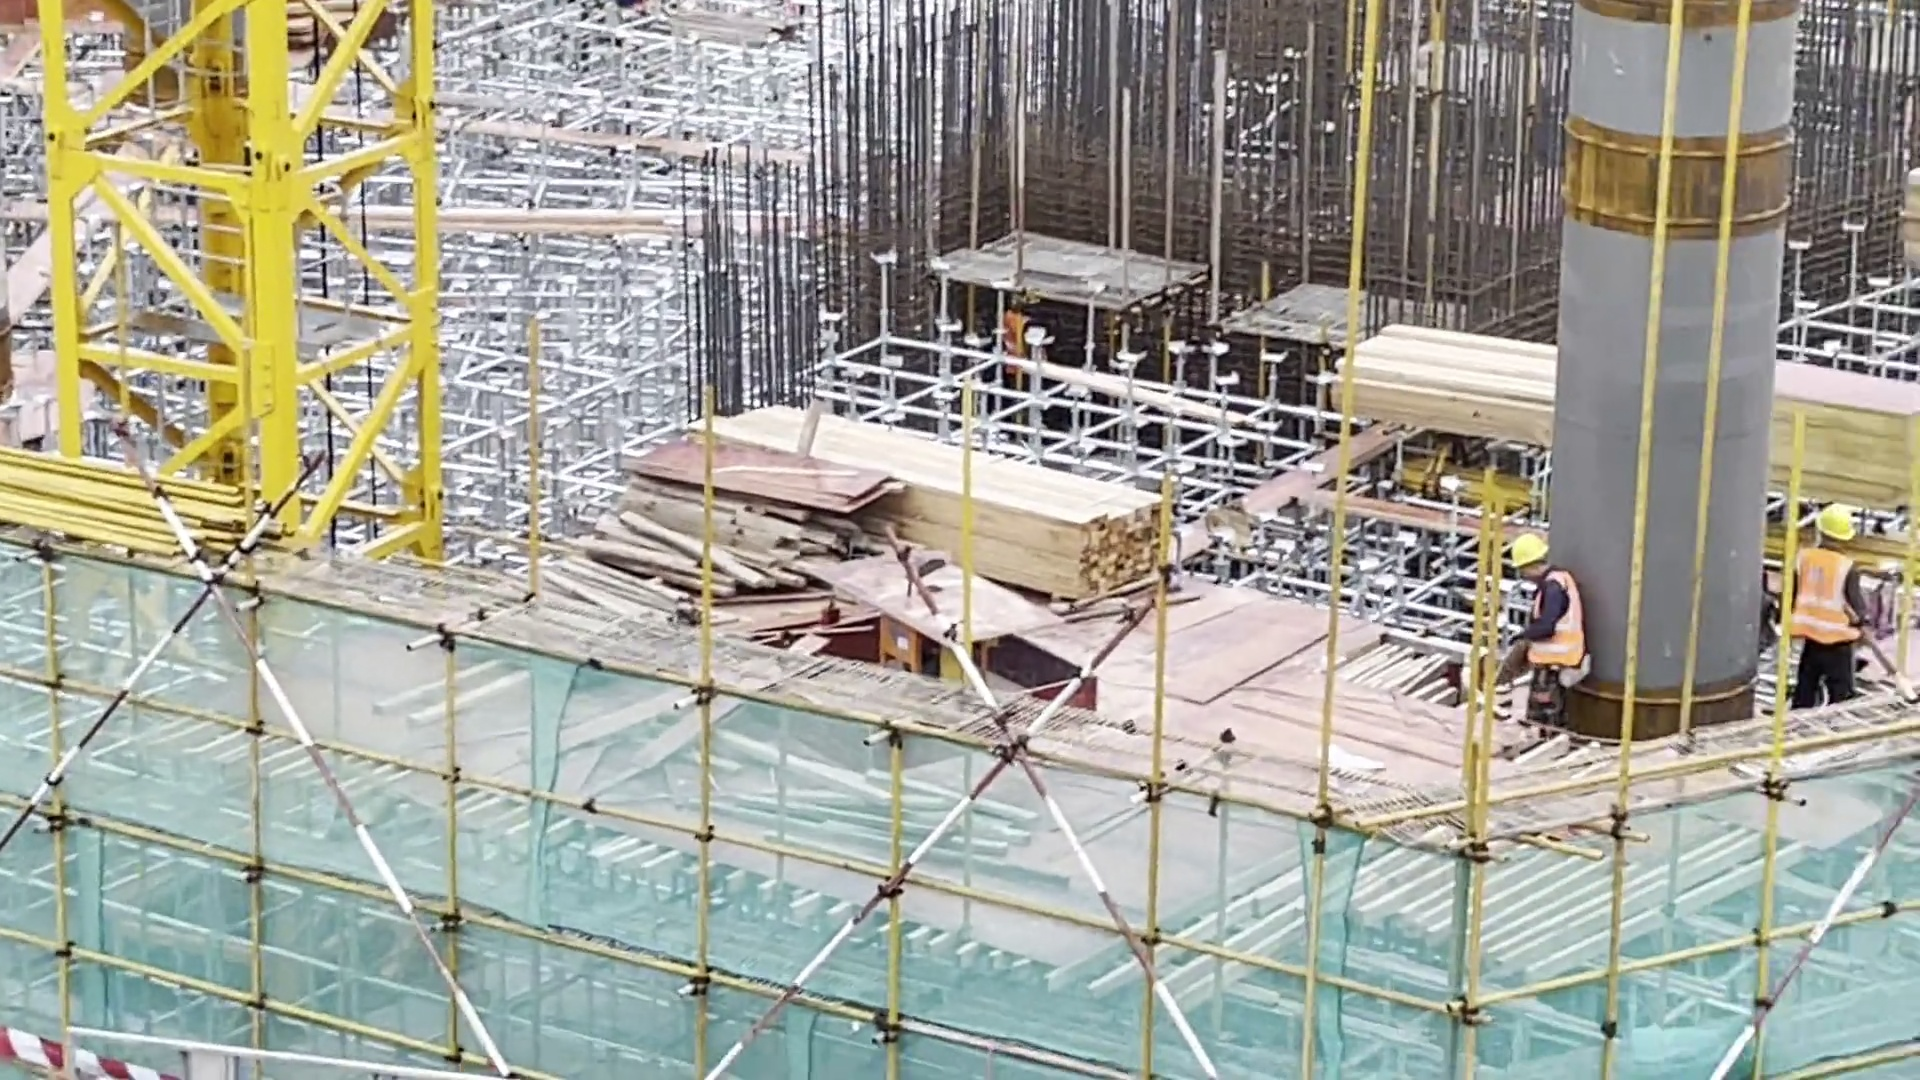cutter: (853, 541, 1062, 678)
helmet: (1804, 506, 1863, 561), (1502, 527, 1547, 576)
person: (1796, 495, 1885, 723), (1492, 521, 1584, 730)
vest: (1803, 562, 1861, 646), (1526, 575, 1577, 657), (1002, 306, 1030, 358)
wood: (715, 399, 1162, 589), (522, 487, 865, 632)
